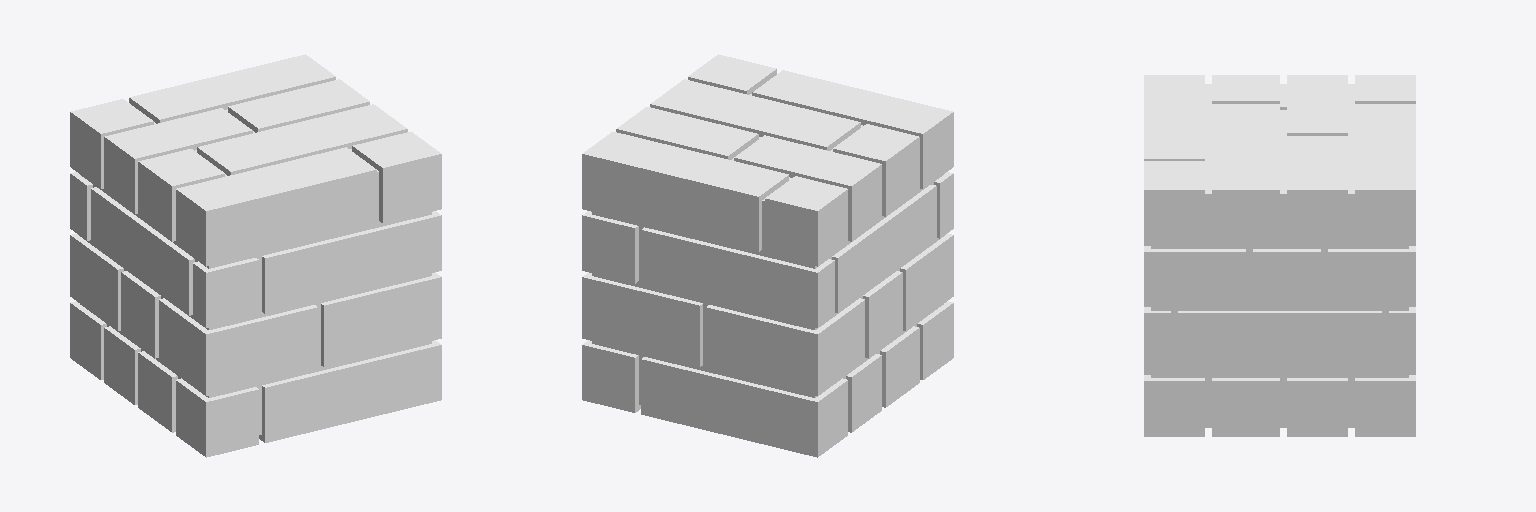
Rendered from StageBlock2.obj.
The picture shows the model from 3 angles: view 1: azimuth 30°, elevation 25°; view 2: azimuth 150°, elevation 25°; view 3: azimuth 270°, elevation 25°; orthographic projection.
Visible parts, largest first — view 1: object 1; view 2: object 1; view 3: object 1.
Part boxes in pixels (left/top/right/bottom): object 1: left=70, top=54, right=441, bottom=457; object 1: left=582, top=54, right=953, bottom=457; object 1: left=1144, top=75, right=1415, bottom=436.
Size of the model in its own units: 4 by 4 by 4.